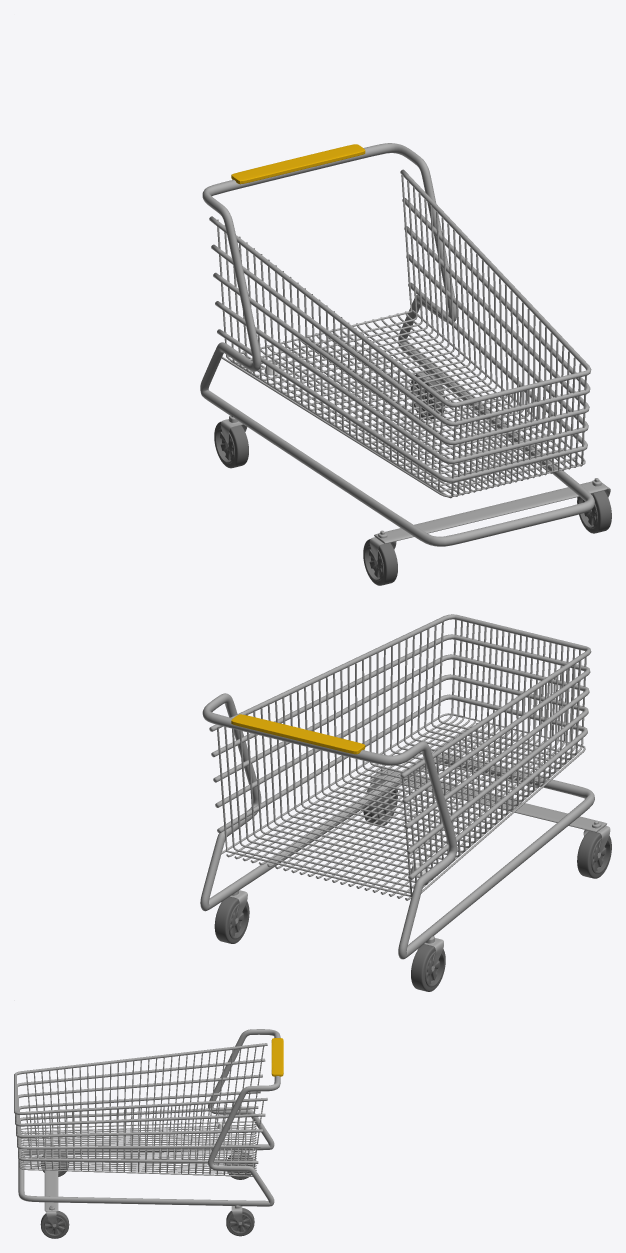
Rendered from Wozek_001_v1.fbx.
3 renders of one model, top to bottom at view 1: azimuth 30°, elevation 25°; view 2: azimuth 150°, elevation 25°; view 3: azimuth 270°, elevation 25°, orthographic. The views are drawn at different scales.
Visible parts, largest first — view 1: pizom, poprzeczne, pion, Cube, Cube.002, Cube.006, Cylinder.001, Cylinder, Cylinder.005; view 2: pizom, poprzeczne, pion, Cube, Cube.006, Cube.002, Cylinder, Cylinder.001, Cylinder.006; view 3: poprzeczne, pizom, pion, Cube, Cube.002, Cylinder.005, Cylinder.006, Cube.006.
Boxes of the visible parts, bbox=[...] form: pizom: bbox=[217, 174, 581, 491]; poprzeczne: bbox=[209, 169, 591, 482]; pion: bbox=[221, 309, 586, 498]; Cube: bbox=[200, 143, 594, 546]; Cube.002: bbox=[374, 481, 607, 543]; Cube.006: bbox=[231, 144, 365, 184]; Cylinder.001: bbox=[214, 421, 248, 468]; Cylinder: bbox=[363, 539, 397, 585]; Cylinder.005: bbox=[577, 490, 611, 533]; pizom: bbox=[217, 621, 581, 896]; poprzeczne: bbox=[209, 614, 591, 879]; pion: bbox=[221, 619, 586, 900]; Cube: bbox=[200, 693, 594, 959]; Cube.006: bbox=[231, 714, 365, 754]; Cube.002: bbox=[374, 770, 606, 832]; Cylinder: bbox=[577, 831, 611, 878]; Cylinder.001: bbox=[411, 944, 445, 991]; Cylinder.006: bbox=[214, 897, 249, 943]; poprzeczne: bbox=[14, 1043, 267, 1163]; pizom: bbox=[26, 1045, 264, 1175]; pion: bbox=[15, 1114, 256, 1176]; Cube: bbox=[18, 1029, 280, 1206]; Cube.002: bbox=[44, 1154, 58, 1211]; Cylinder.005: bbox=[40, 1210, 69, 1238]; Cylinder.006: bbox=[226, 1208, 254, 1236]; Cube.006: bbox=[271, 1038, 283, 1076].
Size of the model in its own units: 152 by 160 by 576.
